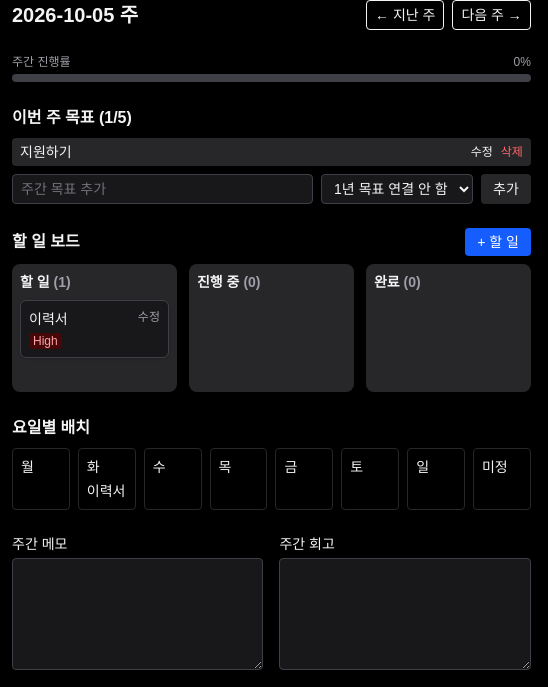
Scenario: WeekView edit and delete › deletes a weekly goal and unlinks its tasks
Expected: the text "지원하기" is shown, [20,142,72,162]
Click the button with aria-label "지원하기 삭제" at (512, 152), box [501,144,523,160]
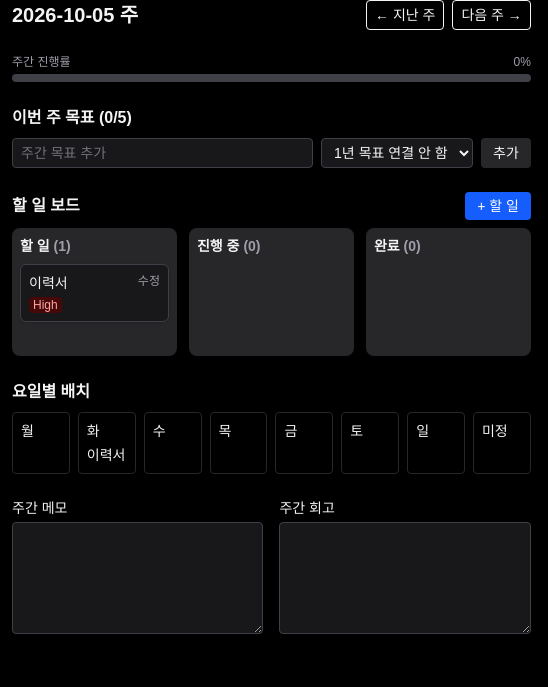
Expected: the text "이력서" is shown, [29,273,68,293]
Result: the text "지원하기" is gone
